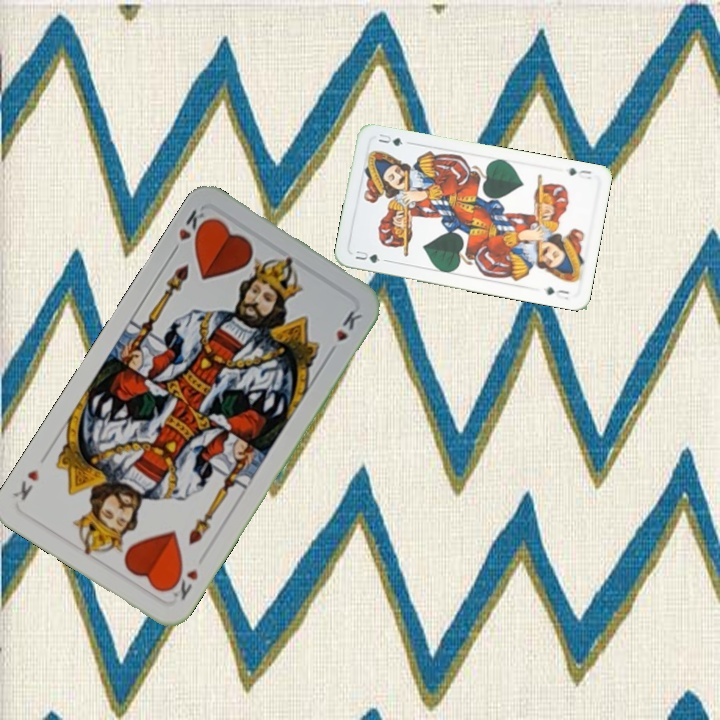GU: (351, 246, 389, 266), (564, 163, 594, 182)
HK: (167, 205, 214, 258), (164, 563, 201, 603)
